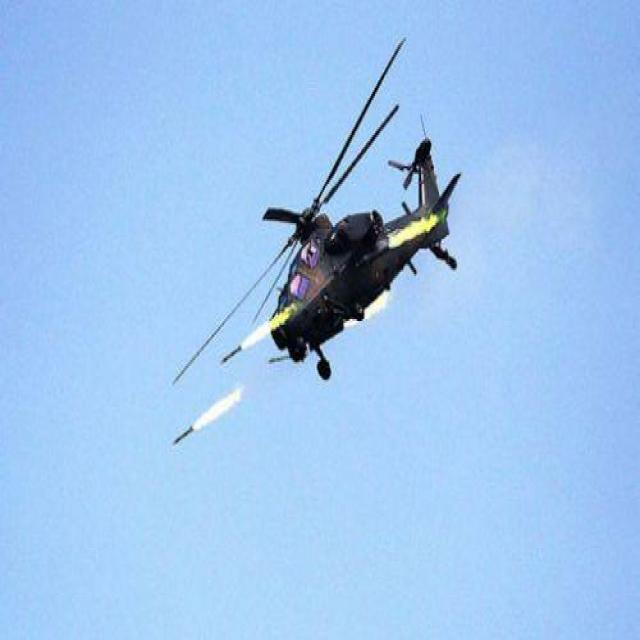MIL_HELO: (168, 25, 464, 404)
